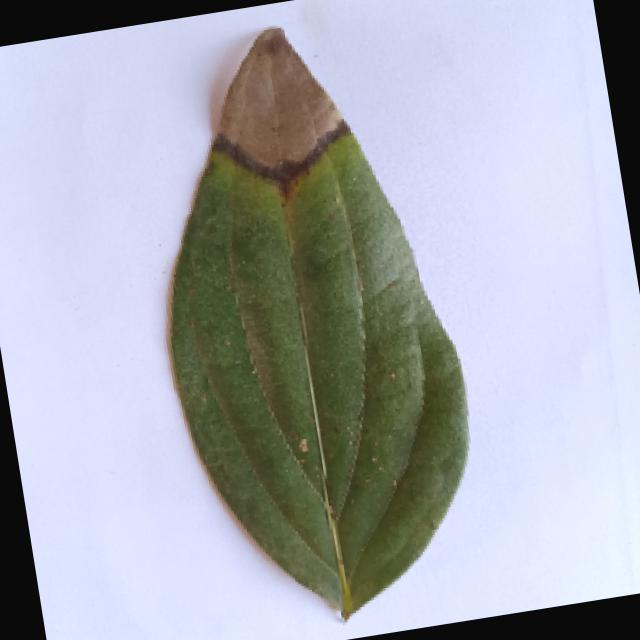footrot: (118, 5, 495, 640)
